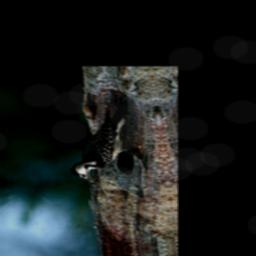Woodpecker: (58, 96, 138, 185)
